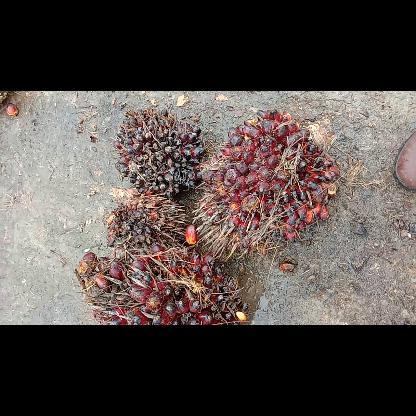Kurang masak: (77, 246, 249, 324)
TBS abnormal: (113, 107, 204, 197), (107, 186, 190, 246)
TBS masak: (193, 110, 339, 258)
